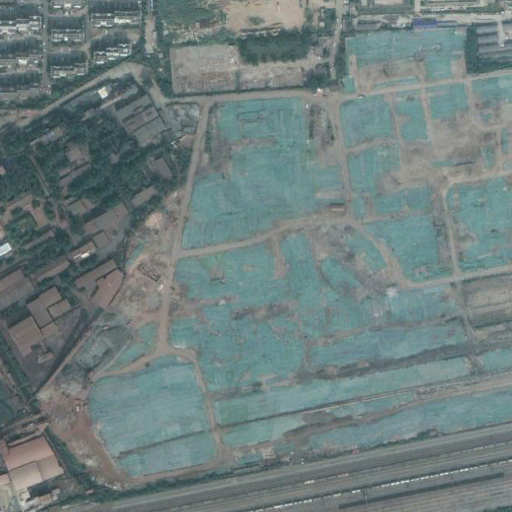cw: (72, 25, 512, 487)
